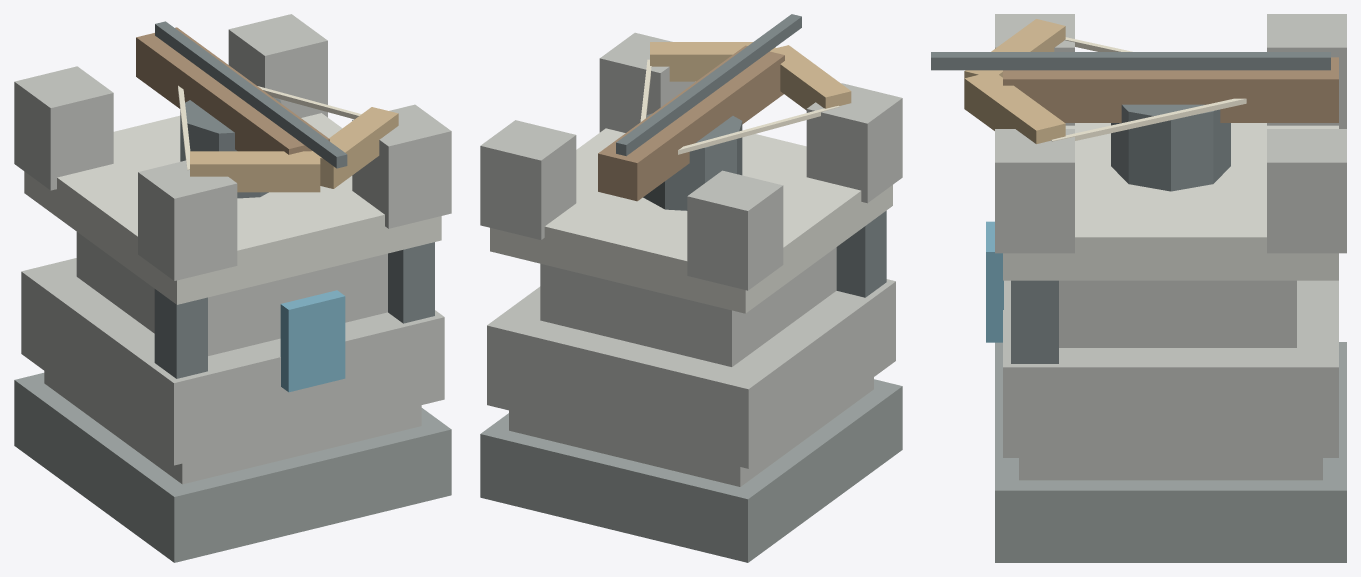
File: human_crossbow_t3.glb
3 renders of one model, left to right at view 1: azimuth 30°, elevation 25°; view 2: azimuth 150°, elevation 25°; view 3: azimuth 270°, elevation 25°, orthographic. The views are drawn at different scales.
Parts seen in each view (by area): view 1: human_crossbow_t3_MAT_stone, human_crossbow_t3_MAT_dark, human_crossbow_t3_MAT_light, human_crossbow_t3_MAT_iron, human_crossbow_t3_MAT_edge, human_crossbow_t3_MAT_wood, human_crossbow_t3_MAT_blue, human_crossbow_t3_MAT_white; view 2: human_crossbow_t3_MAT_stone, human_crossbow_t3_MAT_dark, human_crossbow_t3_MAT_light, human_crossbow_t3_MAT_iron, human_crossbow_t3_MAT_wood, human_crossbow_t3_MAT_edge, human_crossbow_t3_MAT_white; view 3: human_crossbow_t3_MAT_stone, human_crossbow_t3_MAT_dark, human_crossbow_t3_MAT_light, human_crossbow_t3_MAT_iron, human_crossbow_t3_MAT_wood, human_crossbow_t3_MAT_edge, human_crossbow_t3_MAT_white, human_crossbow_t3_MAT_blue.
Boxes of the visible parts, x1,y1,x2,y2 form: human_crossbow_t3_MAT_stone: (14,14,451,484); human_crossbow_t3_MAT_dark: (14,373,451,562); human_crossbow_t3_MAT_light: (24,113,441,304); human_crossbow_t3_MAT_iron: (154,21,434,378); human_crossbow_t3_MAT_edge: (190,107,398,192); human_crossbow_t3_MAT_wood: (136,27,329,154); human_crossbow_t3_MAT_blue: (280,290,345,392); human_crossbow_t3_MAT_white: (178,85,361,170); human_crossbow_t3_MAT_stone: (480,32,902,486); human_crossbow_t3_MAT_dark: (480,379,902,562); human_crossbow_t3_MAT_light: (490,128,892,313); human_crossbow_t3_MAT_iron: (616,14,886,297); human_crossbow_t3_MAT_wood: (598,45,784,201); human_crossbow_t3_MAT_edge: (650,42,851,110); human_crossbow_t3_MAT_white: (640,59,839,154); human_crossbow_t3_MAT_stone: (995,14,1346,480); human_crossbow_t3_MAT_dark: (995,342,1346,562); human_crossbow_t3_MAT_light: (1003,123,1338,280); human_crossbow_t3_MAT_iron: (931,52,1330,363); human_crossbow_t3_MAT_wood: (1003,57,1338,122); human_crossbow_t3_MAT_edge: (964,19,1065,144); human_crossbow_t3_MAT_white: (1051,37,1246,141); human_crossbow_t3_MAT_blue: (986,221,1003,342).
Bounding box in the file's own units: 0.88 × 1.2 × 1.04.
